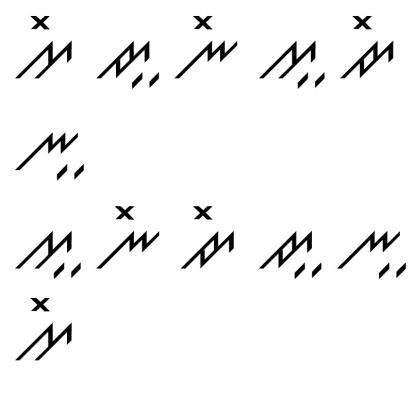jah: (254, 220, 324, 283), (90, 38, 162, 89)
jo: (336, 10, 402, 81), (180, 200, 242, 273)
nyah: (10, 119, 89, 182), (336, 220, 409, 282)
nyo: (171, 10, 240, 82), (94, 201, 164, 271)
sah: (257, 36, 328, 92), (14, 223, 82, 279)
so: (14, 295, 78, 365), (12, 12, 76, 81)
